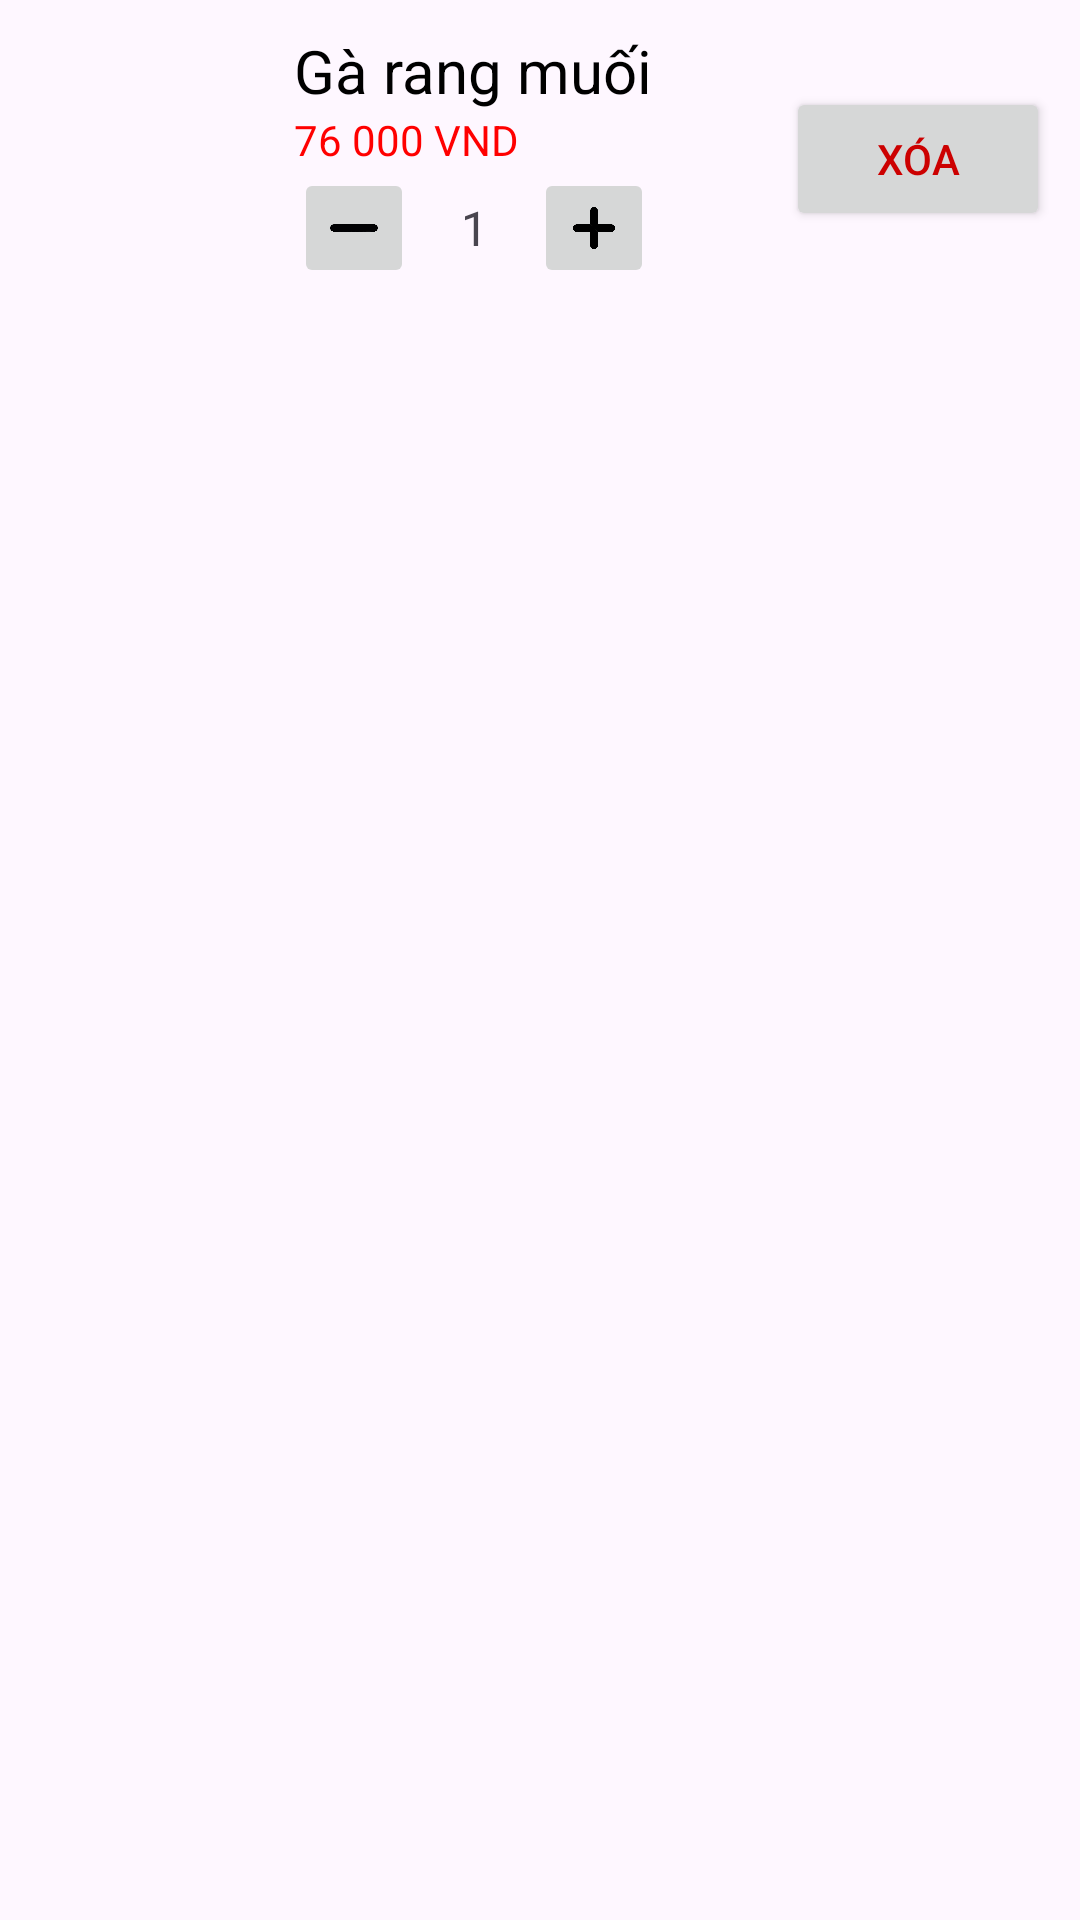

Locate icon controls on the screen. Image size 1080x1920, boxes as {"x1": x1, "y1": y1, "x2": x2, "y2": y2}.
add: {"x1": 546, "y1": 186, "x2": 642, "y2": 270}
sub: {"x1": 306, "y1": 186, "x2": 402, "y2": 270}
